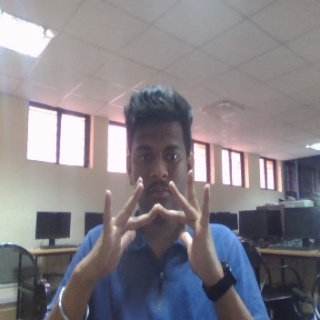Internet: (79, 169, 217, 282)
